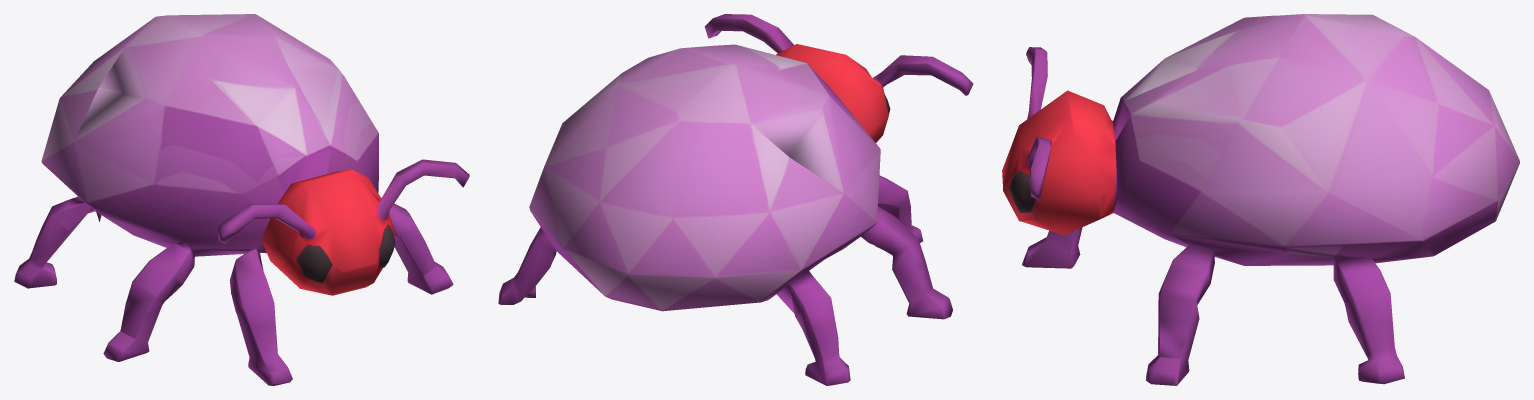
File: bocek.glb
The picture shows the model from 3 angles, left to right: view 1: azimuth 30°, elevation 25°; view 2: azimuth 150°, elevation 25°; view 3: azimuth 270°, elevation 25°; orthographic projection. The views are drawn at different scales.
Parts seen in each view (by area): view 1: material; view 2: material; view 3: material.
Part boxes in pixels (bbox=[...]): material: bbox=[14, 14, 469, 385]; material: bbox=[498, 14, 973, 385]; material: bbox=[1002, 14, 1519, 385].
Size of the model in its own units: 1.61 by 1.11 by 1.9.
Materials: 1 (1 with a texture image).
